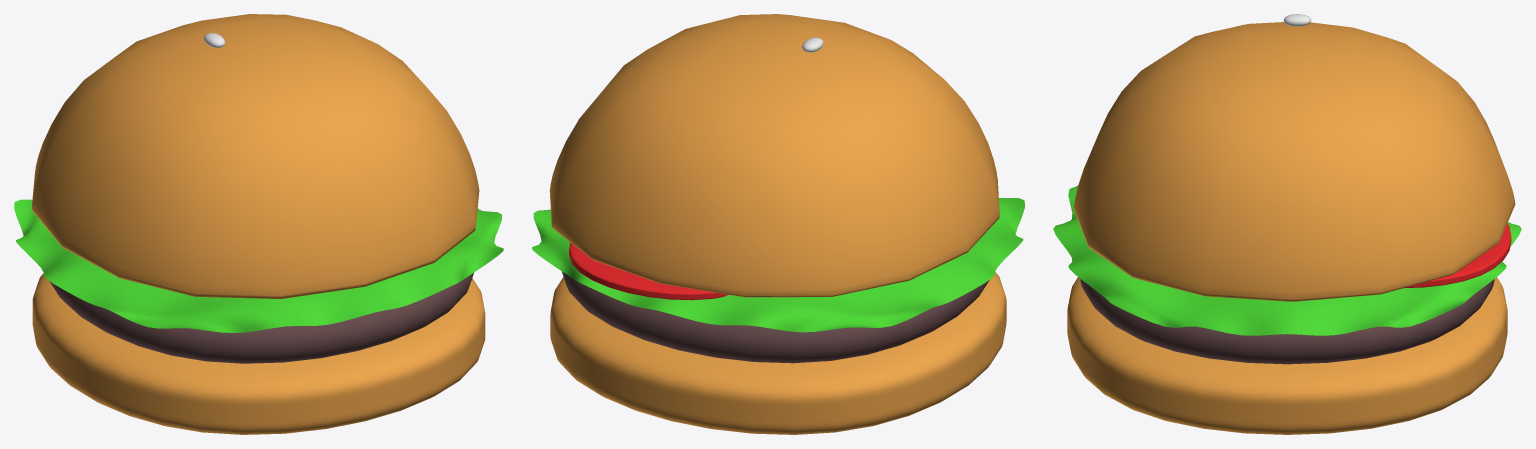
The model's file is hamburguesa_android.glb.
3 renders of one model, left to right at view 1: azimuth 30°, elevation 25°; view 2: azimuth 150°, elevation 25°; view 3: azimuth 270°, elevation 25°, orthographic.
Visible parts, largest first — view 1: Pan de arriba, pan de abjo, Lechuga, Carne; view 2: Pan de arriba, pan de abjo, Lechuga, Carne, Tomate 1; view 3: Pan de arriba, pan de abjo, Lechuga, Carne, Tomate 1.
Part boxes in pixels (<box>): Pan de arriba: <box>31,14,479,298</box>; pan de abjo: <box>32,273,485,434</box>; Lechuga: <box>14,199,503,332</box>; Carne: <box>49,273,473,363</box>; Pan de arriba: <box>549,14,999,297</box>; pan de abjo: <box>550,272,1006,434</box>; Lechuga: <box>532,198,1024,332</box>; Carne: <box>562,271,989,363</box>; Tomate 1: <box>569,242,728,300</box>; Pan de arriba: <box>1074,22,1515,301</box>; pan de abjo: <box>1067,277,1507,434</box>; Lechuga: <box>1053,185,1521,335</box>; Carne: <box>1080,279,1494,364</box>; Tomate 1: <box>1404,223,1511,288</box>.
Size of the model in its own units: 2.01 by 1.51 by 1.95.
